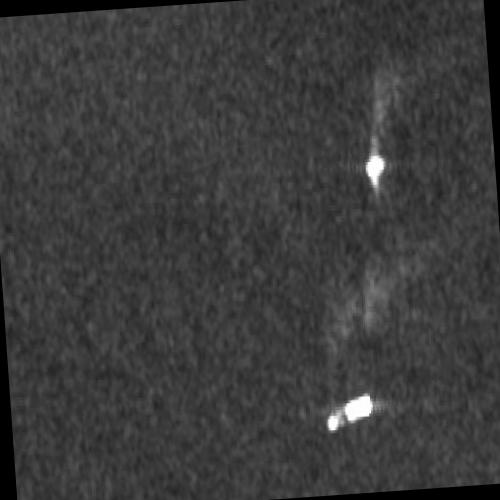ship: (326, 390, 373, 432), (366, 139, 384, 188)
